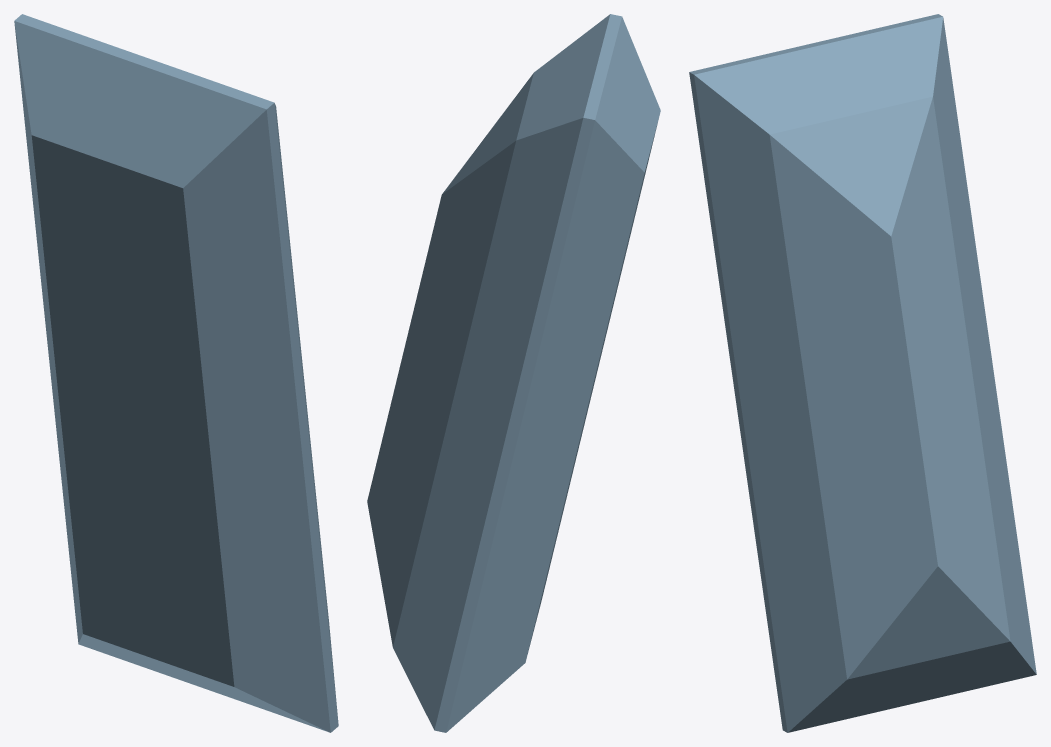
The model's file is TL4_Spacers_BaguetteStone.001 3.glb.
3 views of the same model, side by side, from view 1: azimuth 30°, elevation 25°; view 2: azimuth 150°, elevation 25°; view 3: azimuth 270°, elevation 25° (orthographic). The views are drawn at different scales.
Parts seen in each view (by area): view 1: TL4_Spacers_BaguetteStone.001; view 2: TL4_Spacers_BaguetteStone.001; view 3: TL4_Spacers_BaguetteStone.001.
Boxes of the visible parts, box(x1,y1,x2,y2) form: TL4_Spacers_BaguetteStone.001: box(14, 14, 338, 732); TL4_Spacers_BaguetteStone.001: box(367, 14, 660, 732); TL4_Spacers_BaguetteStone.001: box(689, 14, 1036, 732).
Bounding box in the file's own units: 0.1793 × 0.4274 × 0.2171.
